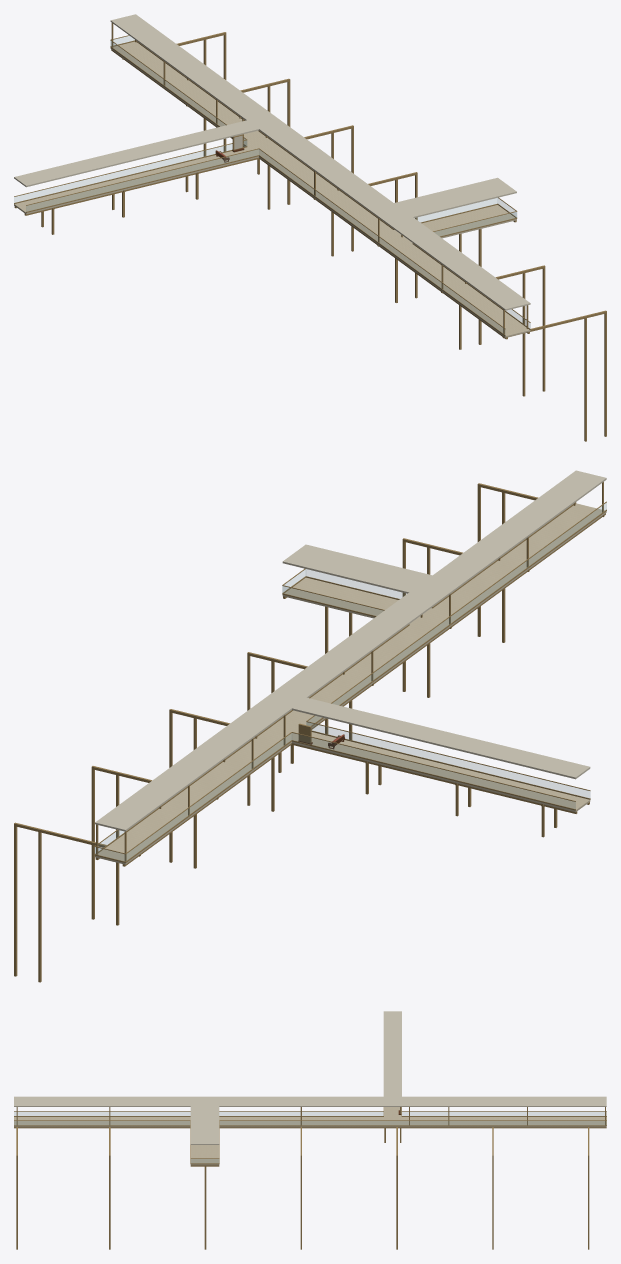
The model's file is D04_STARBOARD_SOUTH_RECEIVING_r002.glb.
3 renders of one model, top to bottom at view 1: azimuth 30°, elevation 25°; view 2: azimuth 150°, elevation 25°; view 3: azimuth 270°, elevation 25°, orthographic. The views are drawn at different scales.
Parts seen in each view (by area): view 1: D04SFP_SouthReceivingRoof, D04SFP_SouthReceivingFloor, D04SFP_OuterGuard_02, D04SFP_OuterGuard_01, D04SFP_OuterGuard_11, D04SFP_OuterGuard_10, D04SFP_StreetLong_42.2; view 2: D04SFP_SouthReceivingRoof, D04SFP_SouthReceivingFloor, D04SFP_OuterGuard_11, D04SFP_OuterGuard_01, D04SFP_OuterGuard_02, D04SFP_OuterGuard_10, D04SFP_StreetLong_42.2, D04SFP_OuterGuard_07, D04SFP_OuterGuard_05; view 3: D04SFP_SouthReceivingRoof, D04SFP_SouthReceivingFloor, D04SFP_OuterGuard_08, D04SFP_OuterGuard_02, D04SFP_StreetLong_45.8, D04SFP_OuterGuard_10, D04SFP_OuterGuard_08_Base, D04SFP_OuterGuard_04, D04SFP_OuterGuard_08_Cap, D04SFP_OuterGuard_04_Base, D04SFP_OuterGuard_02_Base, D04SFP_OuterGuard_02_Cap.
Part boxes in pixels (box(x1,y1,x2,y2)): D04SFP_SouthReceivingRoof: box(14, 14, 530, 310); D04SFP_SouthReceivingFloor: box(14, 41, 530, 337); D04SFP_OuterGuard_02: box(259, 150, 505, 334); D04SFP_OuterGuard_01: box(26, 149, 258, 211); D04SFP_OuterGuard_11: box(14, 141, 246, 202); D04SFP_OuterGuard_10: box(111, 41, 246, 145); D04SFP_StreetLong_42.2: box(111, 49, 507, 339); D04SFP_SouthReceivingRoof: box(95, 470, 606, 831); D04SFP_SouthReceivingFloor: box(95, 503, 606, 864); D04SFP_OuterGuard_11: box(292, 733, 575, 808); D04SFP_OuterGuard_01: box(307, 722, 590, 797); D04SFP_OuterGuard_02: box(307, 503, 606, 725); D04SFP_OuterGuard_10: box(126, 733, 291, 860); D04SFP_StreetLong_42.2: box(122, 513, 605, 866); D04SFP_OuterGuard_07: box(283, 586, 382, 615); D04SFP_OuterGuard_05: box(306, 569, 405, 598); D04SFP_SouthReceivingRoof: box(14, 1011, 606, 1144); D04SFP_SouthReceivingFloor: box(14, 1107, 606, 1165); D04SFP_OuterGuard_08: box(220, 1121, 606, 1124); D04SFP_OuterGuard_02: box(14, 1112, 383, 1115); D04SFP_StreetLong_45.8: box(14, 1127, 606, 1128); D04SFP_OuterGuard_10: box(402, 1112, 606, 1115); D04SFP_OuterGuard_08_Base: box(219, 1125, 606, 1126); D04SFP_OuterGuard_04: box(14, 1121, 189, 1124); D04SFP_OuterGuard_08_Cap: box(219, 1120, 606, 1120); D04SFP_OuterGuard_04_Base: box(14, 1125, 190, 1126); D04SFP_OuterGuard_02_Base: box(14, 1116, 383, 1116); D04SFP_OuterGuard_02_Cap: box(14, 1111, 383, 1111).
Size of the model in its own units: 59.04 by 23.9 by 111.
Materials: 12 (10 with a texture image).
